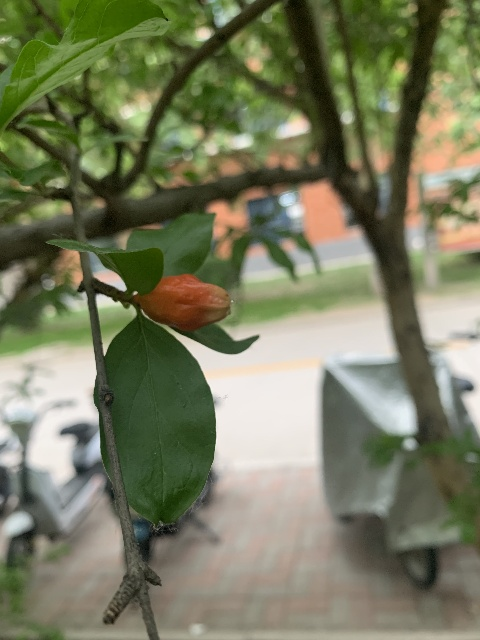bud: (134, 273, 230, 331)
